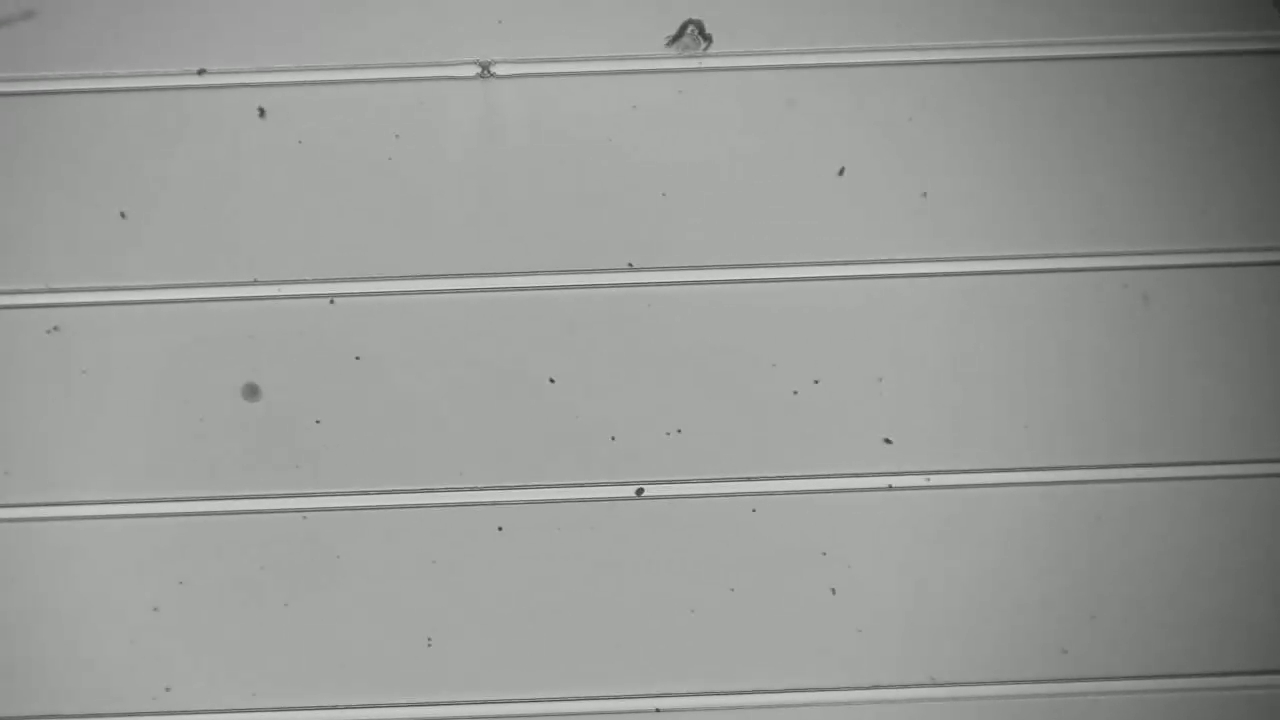stains_enbedded: (467, 49, 505, 84), (628, 477, 654, 502)
